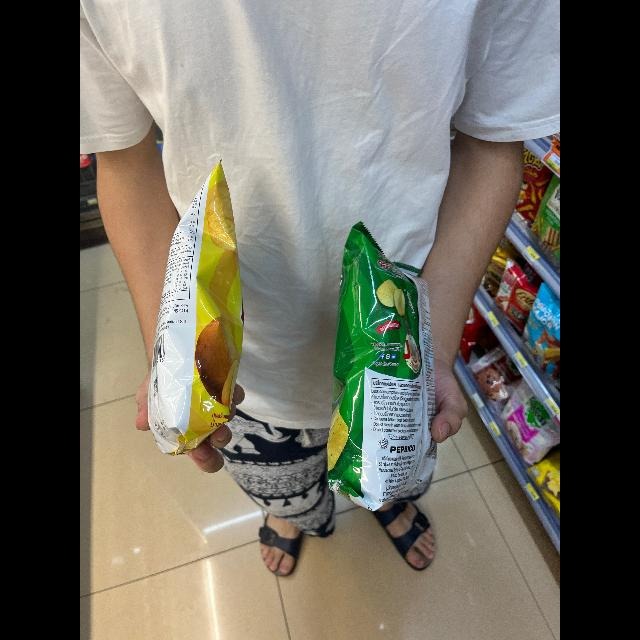snack_bag: (330, 218, 452, 526), (136, 160, 244, 460)
